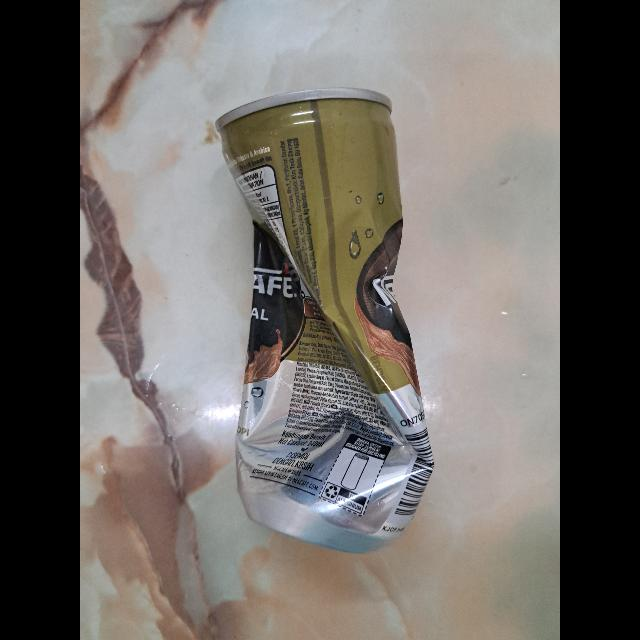lata: (218, 86, 436, 554)
